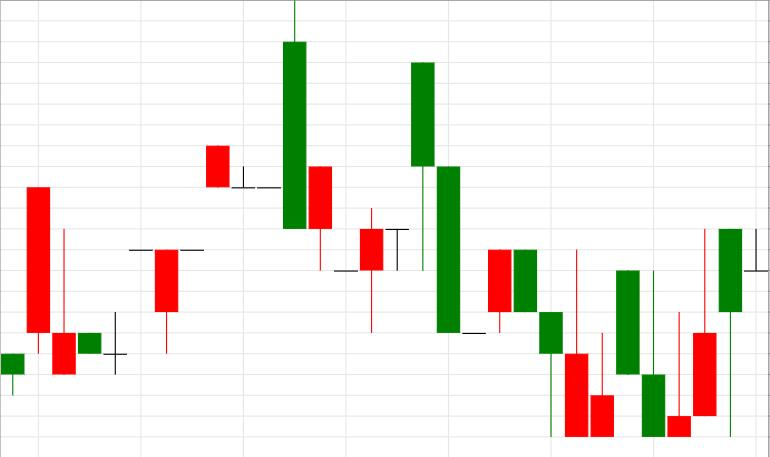hammer_rise: (410, 62, 562, 437)
